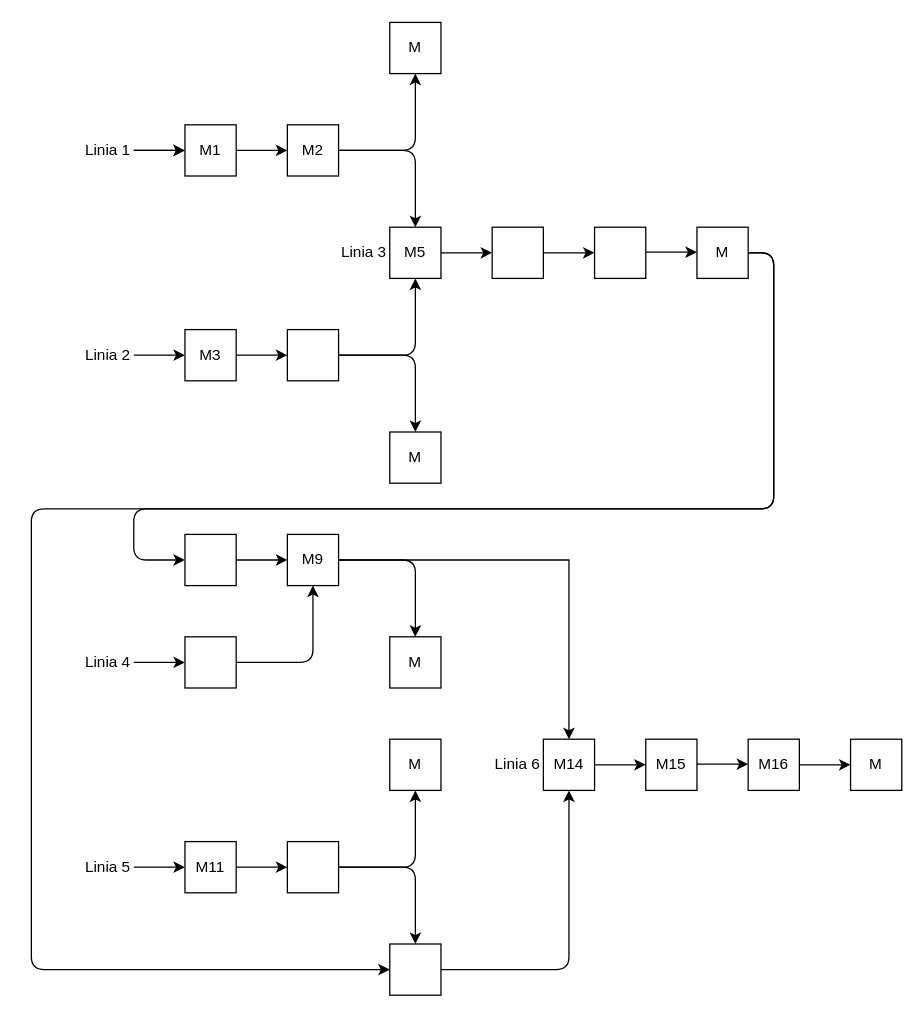
Some shapes in this 924 by 1018 pixel diagram are drawn without their labels. The centre of each missing label's shape, as x and y in pixels:
M10: point 210,662
M12: point 312,866
M13: point 414,969
M4: point 312,354
M6: point 517,252
M7: point 619,252
M8: point 210,559
